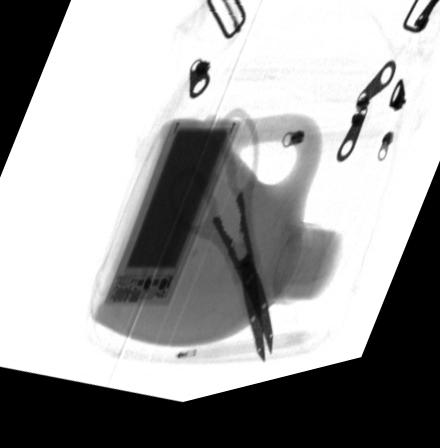Powerbank: (99, 127, 240, 312)
Scissors: (165, 113, 274, 381)
